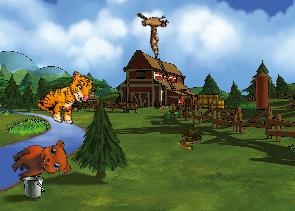bear: (6, 132, 76, 194)
eagle: (125, 0, 182, 59)
tiger: (33, 62, 97, 130)
